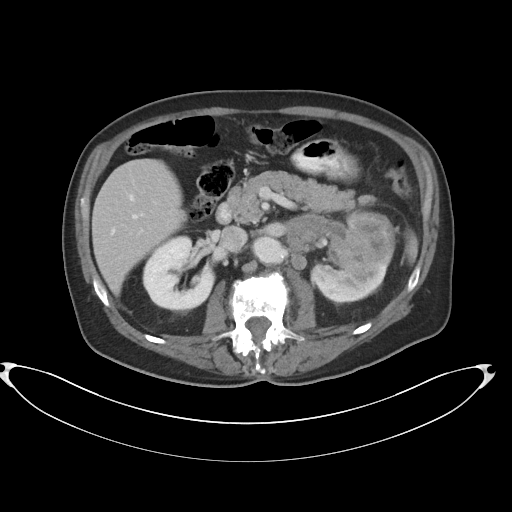Lesion: (339, 211, 398, 277)
